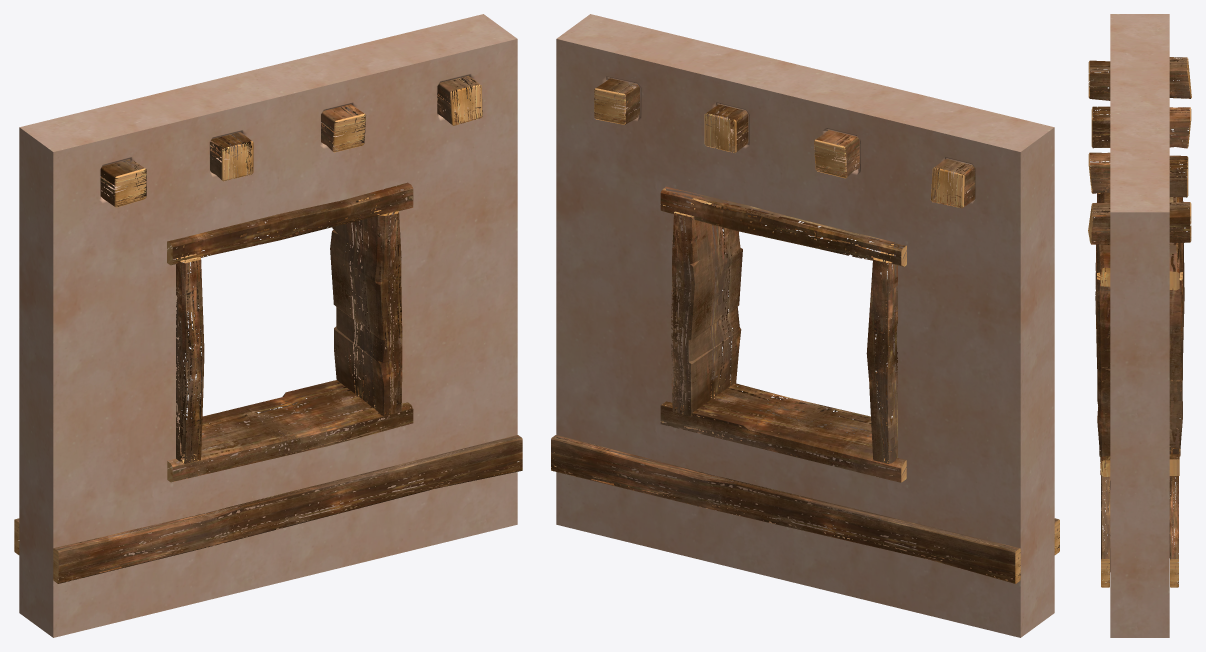
3 renders of one model, left to right at view 1: azimuth 30°, elevation 25°; view 2: azimuth 150°, elevation 25°; view 3: azimuth 270°, elevation 25°, orthographic. The views are drawn at different scales.
Parts seen in each view (by area): view 1: SM_BB_T4_Wall_Large_Windowframe_LOD0; view 2: SM_BB_T4_Wall_Large_Windowframe_LOD0; view 3: SM_BB_T4_Wall_Large_Windowframe_LOD0.
Part boxes in pixels (box(x1,y1,x2,y2)): SM_BB_T4_Wall_Large_Windowframe_LOD0: box(14, 14, 522, 637); SM_BB_T4_Wall_Large_Windowframe_LOD0: box(551, 14, 1059, 637); SM_BB_T4_Wall_Large_Windowframe_LOD0: box(1088, 14, 1191, 637).
Bounding box in the file's own units: 3 × 3 × 0.6636.
2 materials, 2 textured.
